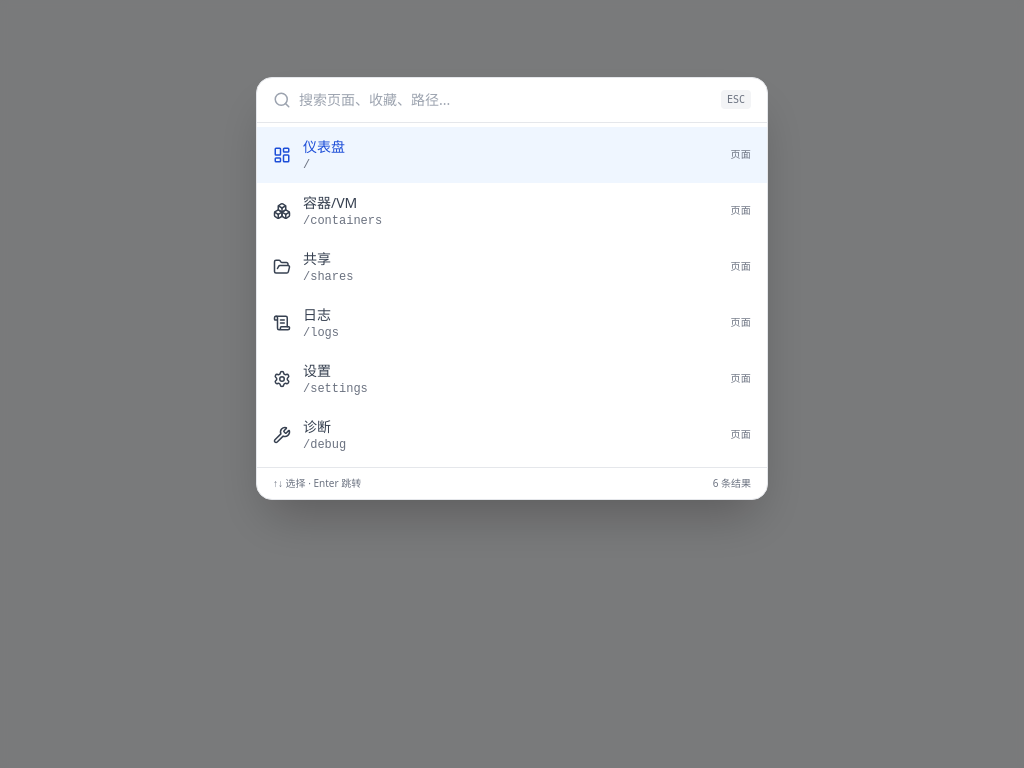
Test: GlobalSearch › 输入关键词过滤结果
In the field with placeholder "搜索页面、收藏、路径...": (506, 100) [299,90,713,110], type "日志"
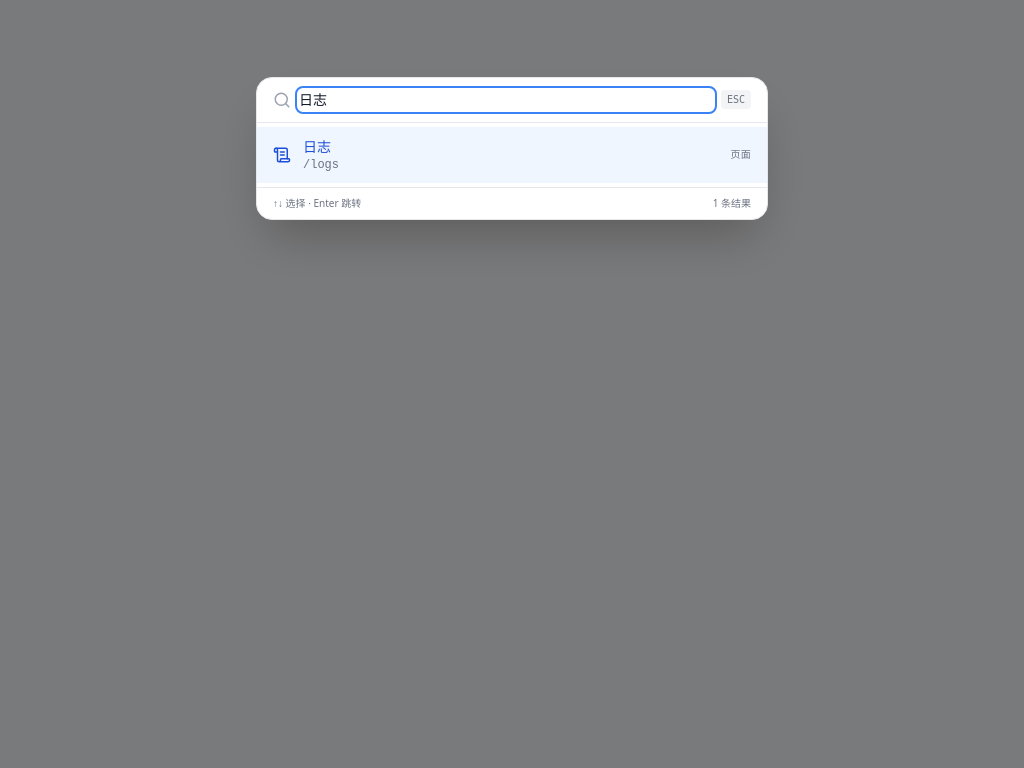
Expected: the text "日志" is shown, [303,137,331,156]
Result: the option "仪表盘" is gone
